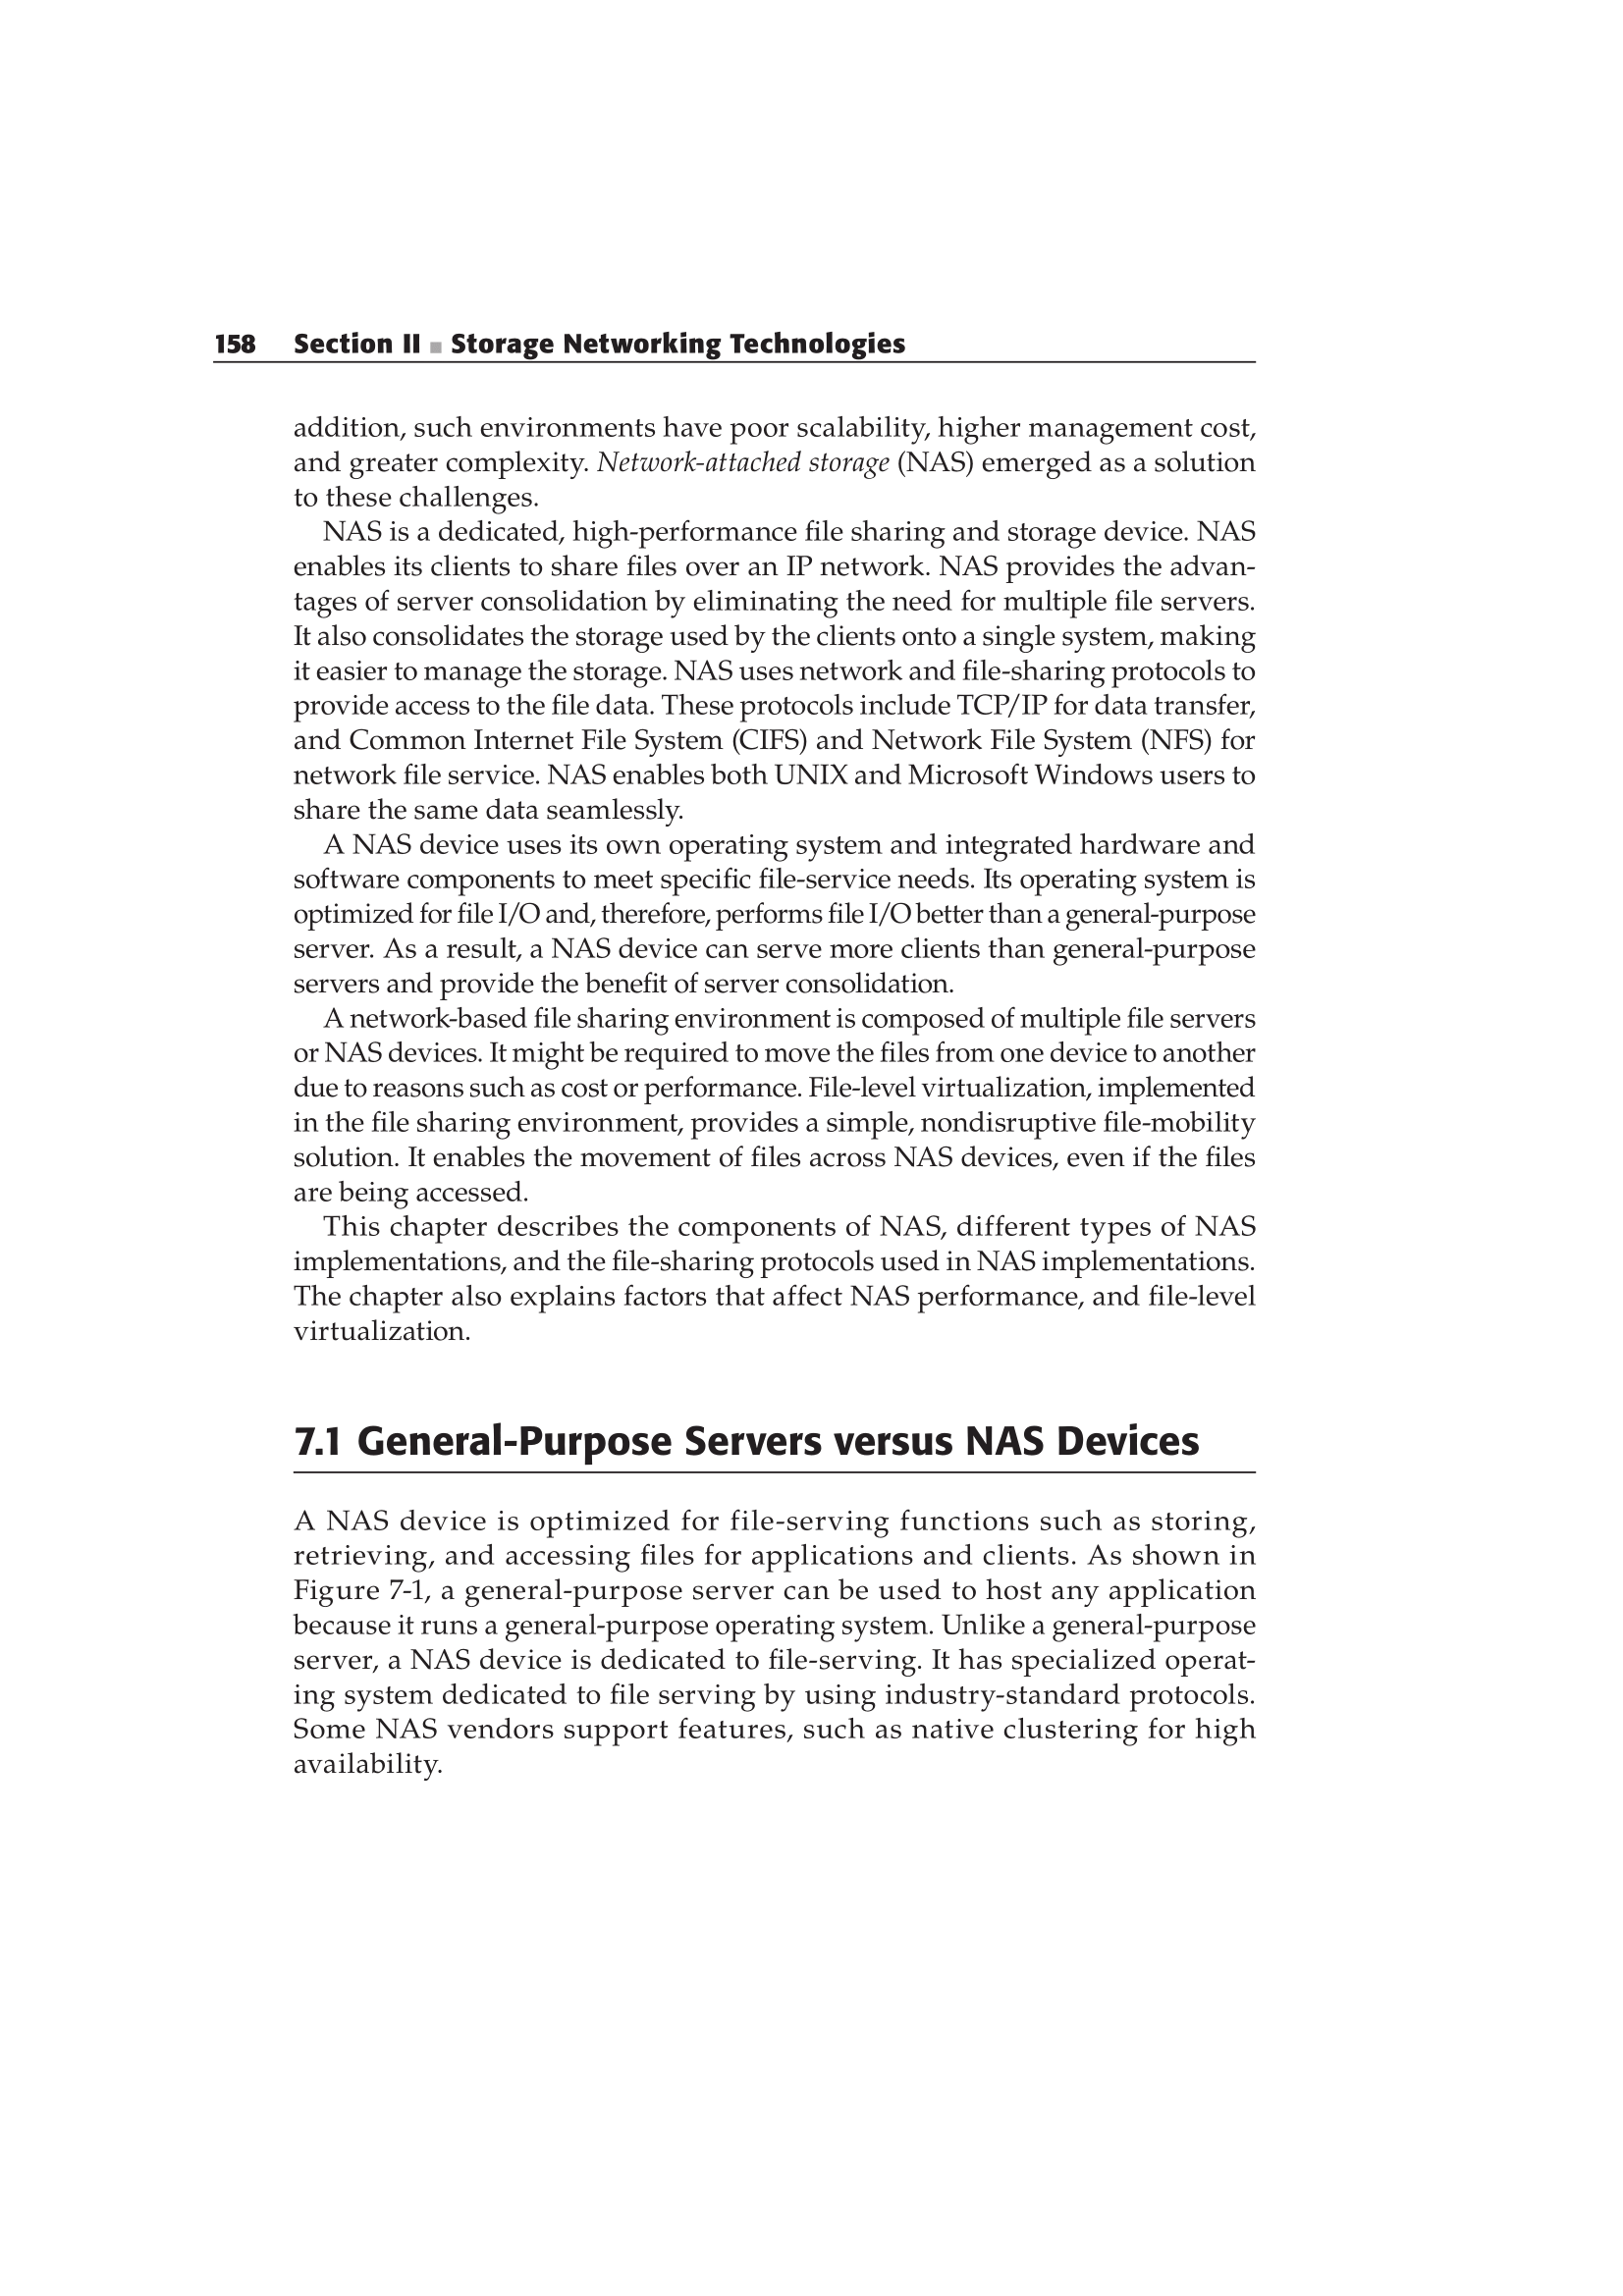Paragraph: (230, 1489, 1370, 1834), (270, 516, 1326, 830), (211, 1006, 1354, 1208), (148, 834, 1391, 1004), (265, 1211, 1298, 1374), (97, 239, 1052, 372), (235, 390, 1295, 502), (242, 1410, 1295, 1478)
